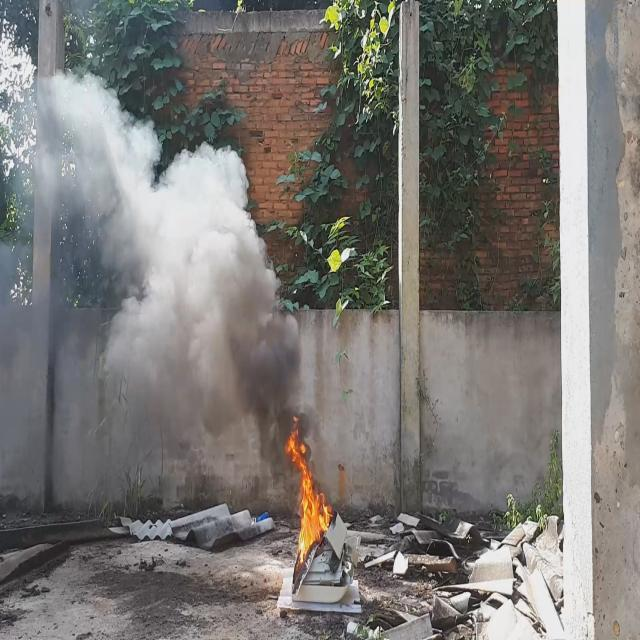Fire: (288, 415, 336, 579)
Smoke: (3, 67, 321, 482)
